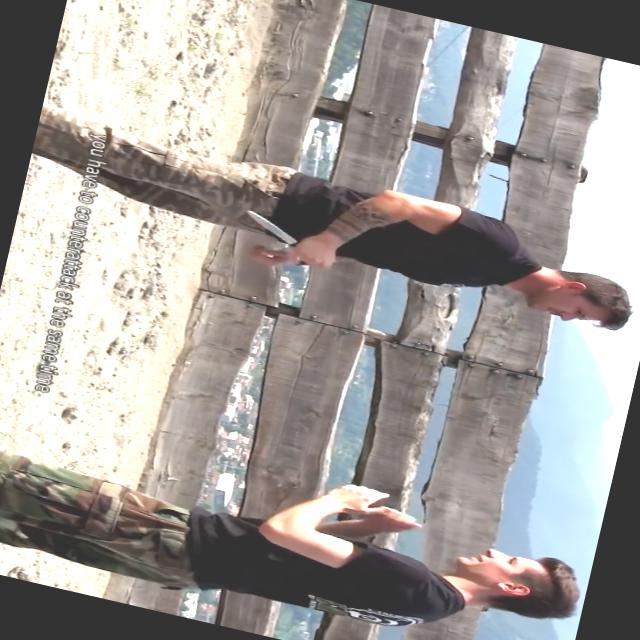knife: (229, 203, 341, 271)
